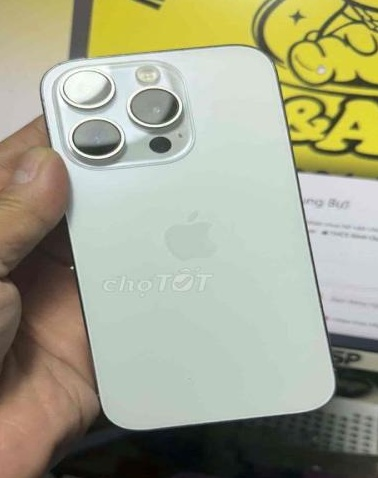scratch: (186, 373, 199, 383)
